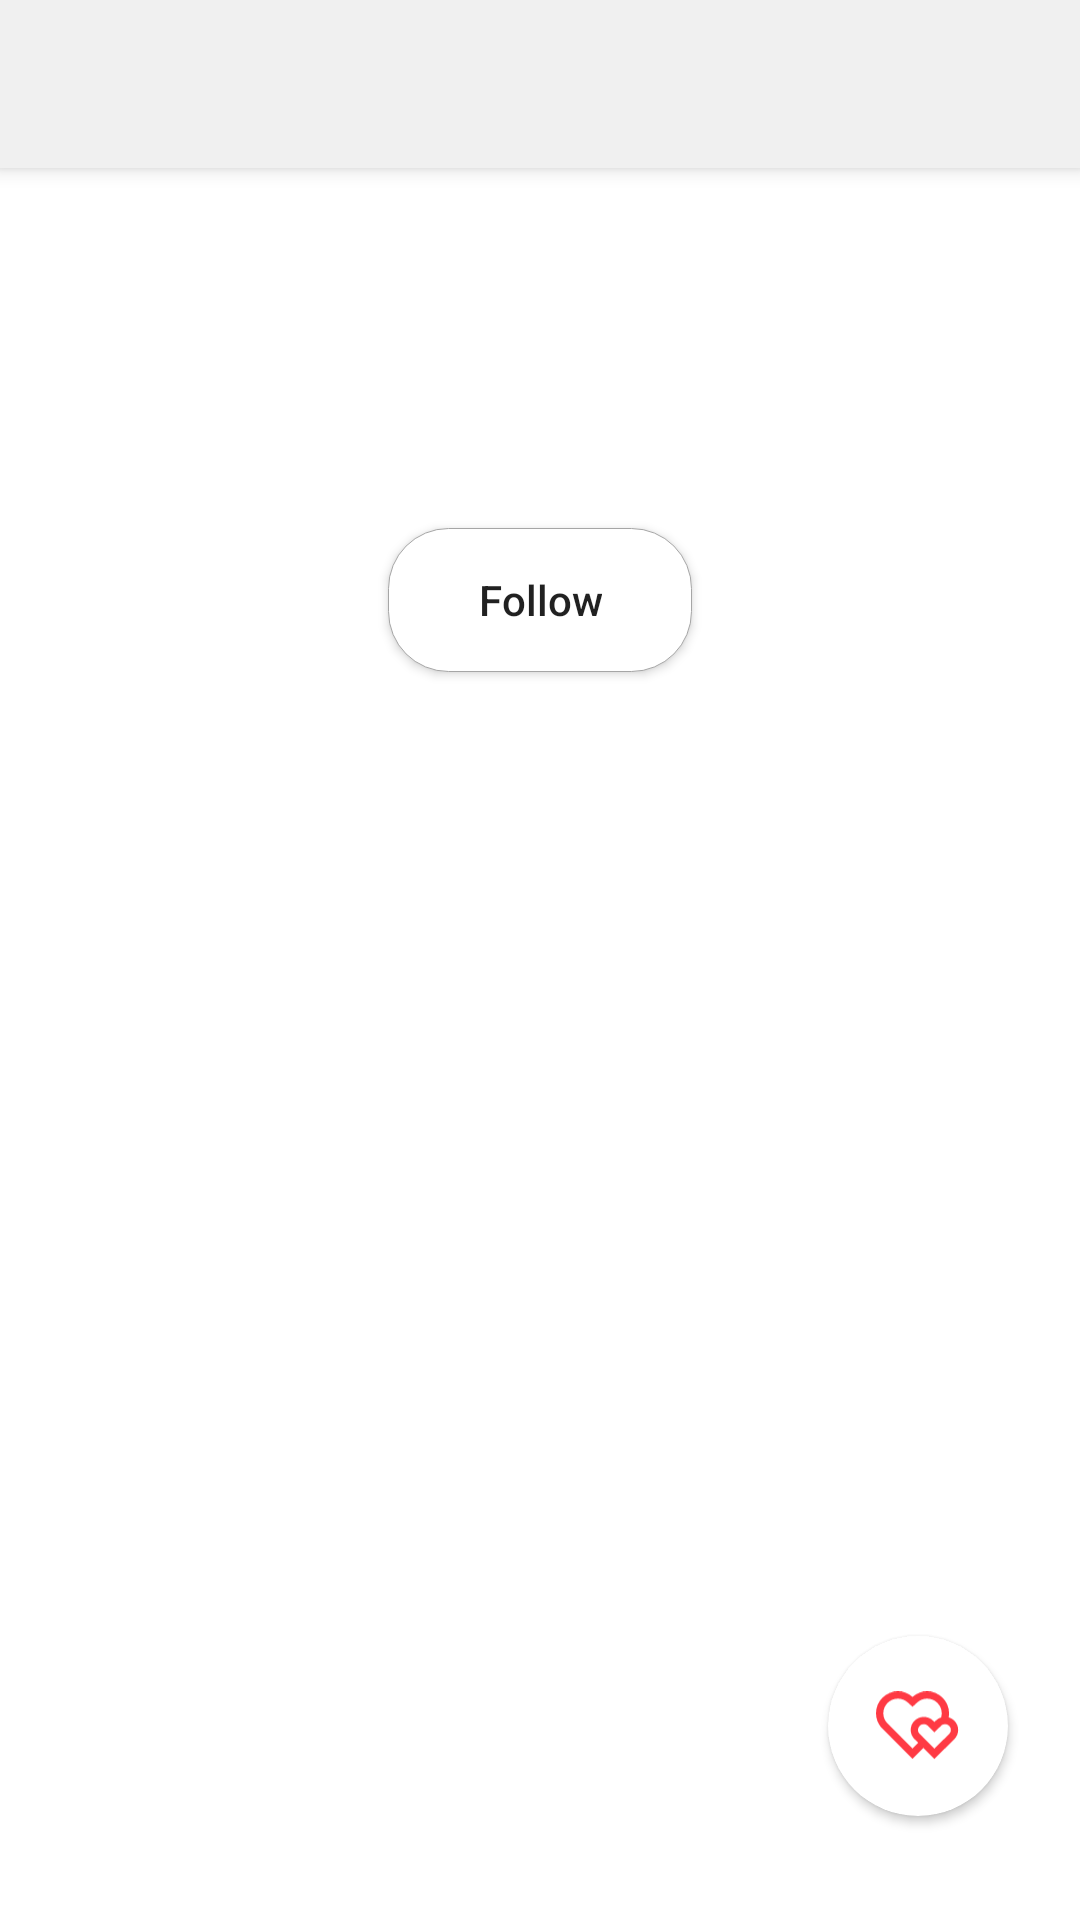

Screen size 1080 x 1920. Icon name, then its center in pixels as (x,y):
double like: (919,1725)
